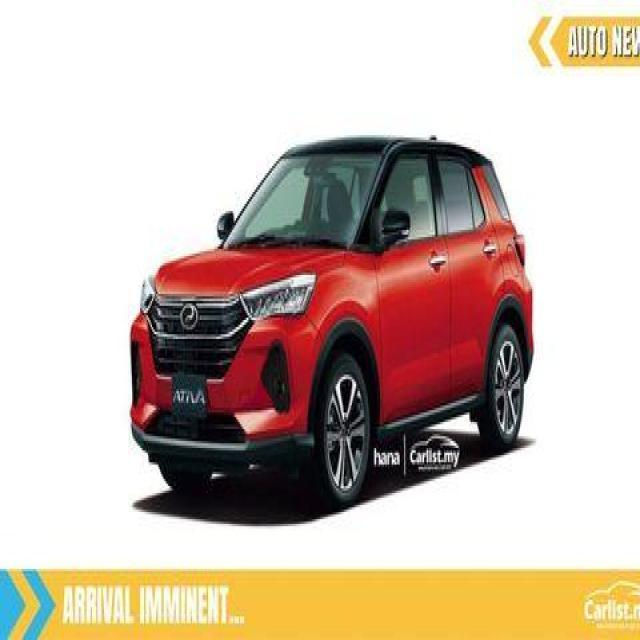PeroduaAtiva: (127, 133, 535, 510)
